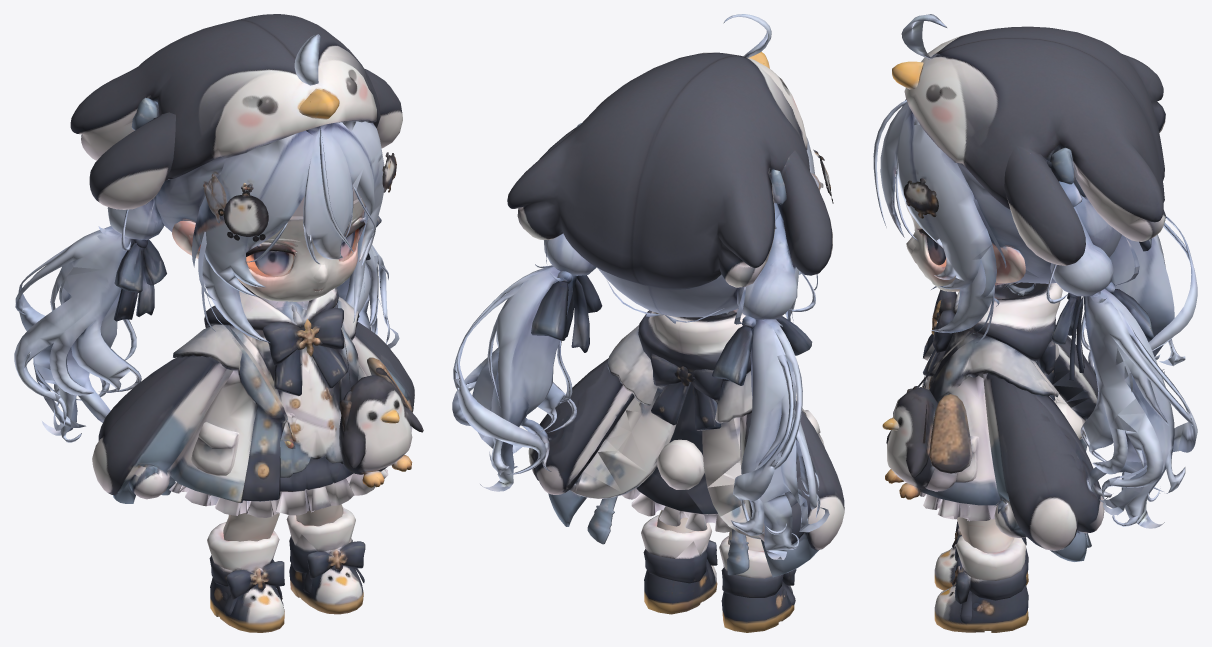
Rendered from source.glb.
3 renders of one model, left to right at view 1: azimuth 30°, elevation 25°; view 2: azimuth 150°, elevation 25°; view 3: azimuth 270°, elevation 25°, orthographic. The views are drawn at different scales.
Parts seen in each view (by area): view 1: tripo_part_0, tripo_part_3, tripo_part_4, tripo_part_6, tripo_part_30, tripo_part_15, tripo_part_20, tripo_part_7, tripo_part_1, tripo_part_29, tripo_part_10, tripo_part_5 (+28 smaller); view 2: tripo_part_0, tripo_part_3, tripo_part_17, tripo_part_5, tripo_part_9, tripo_part_6, tripo_part_2, tripo_part_4, tripo_part_20, tripo_part_8, tripo_part_18, tripo_part_10 (+19 smaller); view 3: tripo_part_0, tripo_part_9, tripo_part_2, tripo_part_15, tripo_part_3, tripo_part_23, tripo_part_8, tripo_part_17, tripo_part_5, tripo_part_7, tripo_part_13, tripo_part_38 (+23 smaller).
Boxes of the visible parts, x1,y1,x2,y2 form: tripo_part_0: (70,14,380,231); tripo_part_3: (168,297,386,503); tripo_part_4: (14,226,141,424); tripo_part_6: (92,355,233,503); tripo_part_30: (192,130,315,296); tripo_part_15: (303,121,384,267); tripo_part_20: (89,112,175,209); tripo_part_7: (339,375,423,474); tripo_part_1: (172,186,365,301); tripo_part_29: (252,329,342,477); tripo_part_10: (207,522,284,632); tripo_part_5: (33,226,121,442); tripo_part_0: (507,52,809,317); tripo_part_3: (570,325,803,539); tripo_part_17: (472,267,572,491); tripo_part_5: (741,319,807,559); tripo_part_9: (528,358,646,494); tripo_part_6: (720,401,844,577); tripo_part_2: (452,267,577,474); tripo_part_4: (733,319,820,521); tripo_part_20: (777,150,832,275); tripo_part_8: (638,310,751,381); tripo_part_18: (737,214,797,319); tripo_part_10: (719,536,794,632); tripo_part_0: (904,26,1165,284); tripo_part_9: (984,373,1104,550); tripo_part_2: (1080,291,1197,503); tripo_part_15: (880,102,1006,298); tripo_part_3: (920,329,1085,505); tripo_part_23: (1004,146,1085,265); tripo_part_8: (953,282,1062,361); tripo_part_17: (1088,288,1174,528); tripo_part_5: (1088,234,1174,375); tripo_part_7: (886,387,937,489); tripo_part_13: (934,567,1028,632); tripo_part_38: (929,394,972,473).
Size of the model in its own units: 0.658 by 1 by 0.5007.
1 material, 1 textured.
